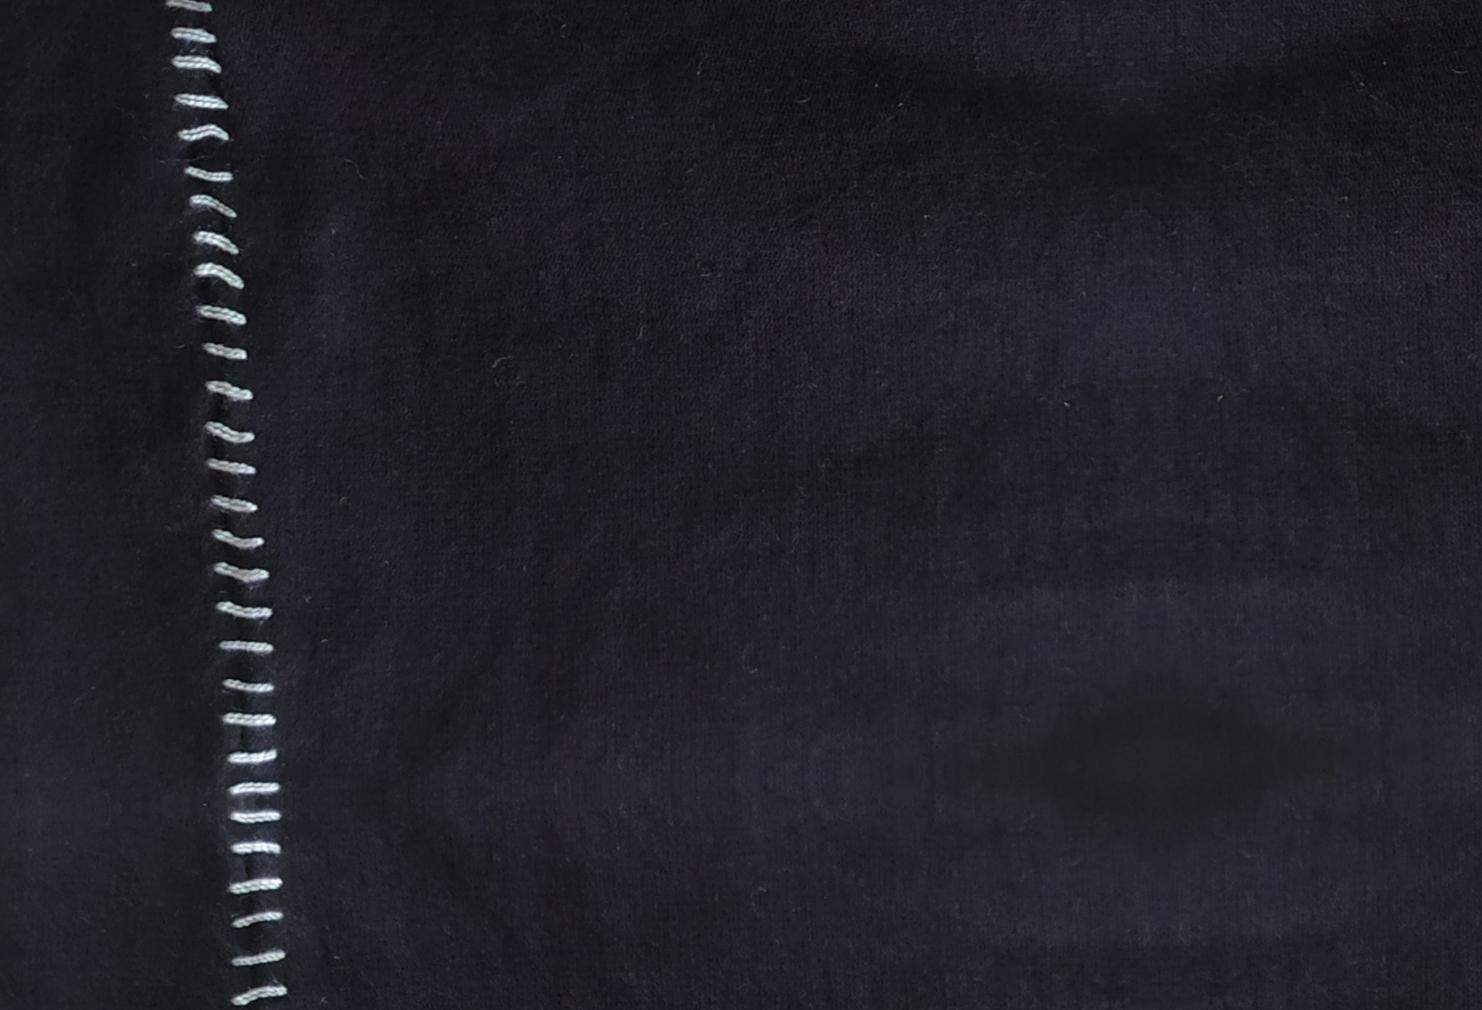slub: (163, 2, 303, 1010)
